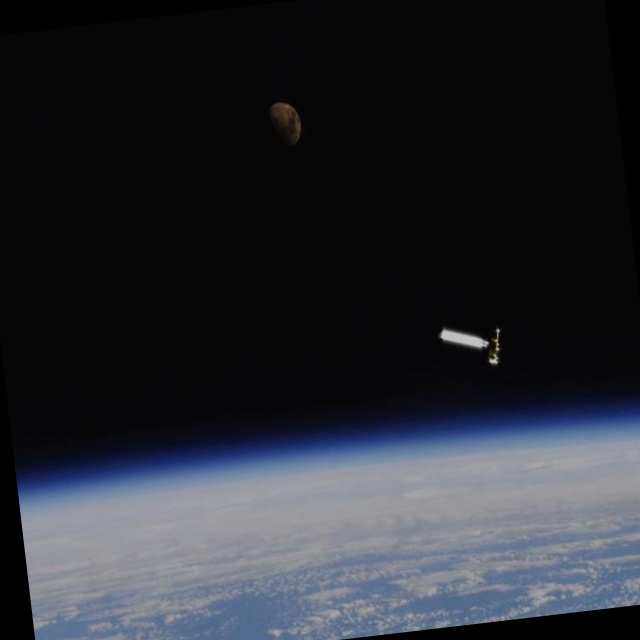medium_debris: (430, 308, 514, 381)
